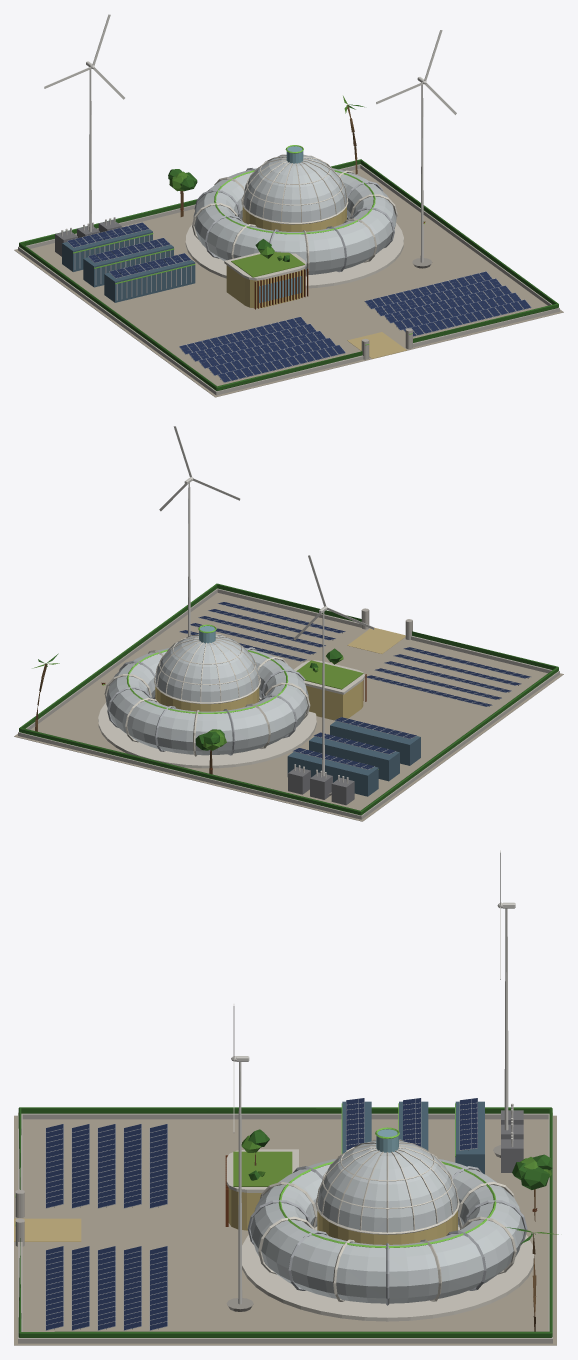
Rendered from power_plant.glb.
3 renders of one model, top to bottom at view 1: azimuth 30°, elevation 25°; view 2: azimuth 150°, elevation 25°; view 3: azimuth 270°, elevation 25°, orthographic. The views are drawn at different scales.
Parts seen in each view (by area): view 1: body, windows; view 2: body, windows; view 3: body, windows.
Part boxes in pixels (bbox=[...]): body: bbox=[14, 14, 563, 397]; windows: bbox=[73, 145, 412, 345]; body: bbox=[14, 426, 563, 821]; windows: bbox=[126, 624, 378, 769]; body: bbox=[14, 850, 558, 1345]; windows: bbox=[15, 1103, 496, 1248].
Bounding box in the file's own units: 47.9 × 30.86 × 48.51.
